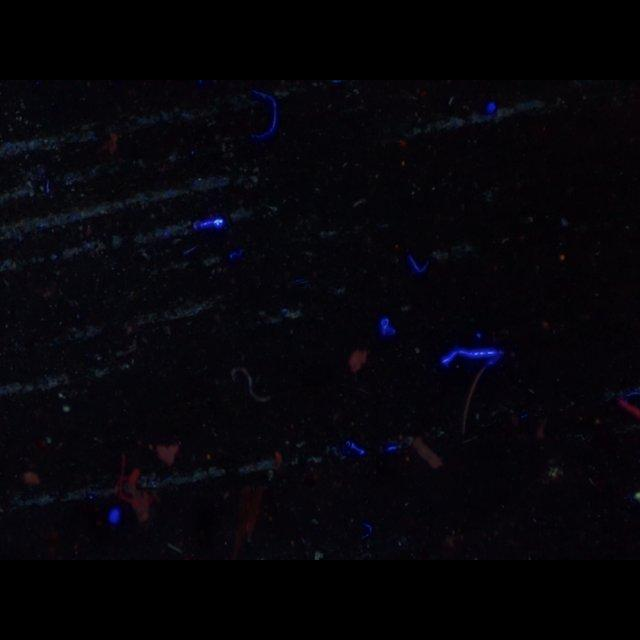Fibre: (231, 367, 270, 402)
